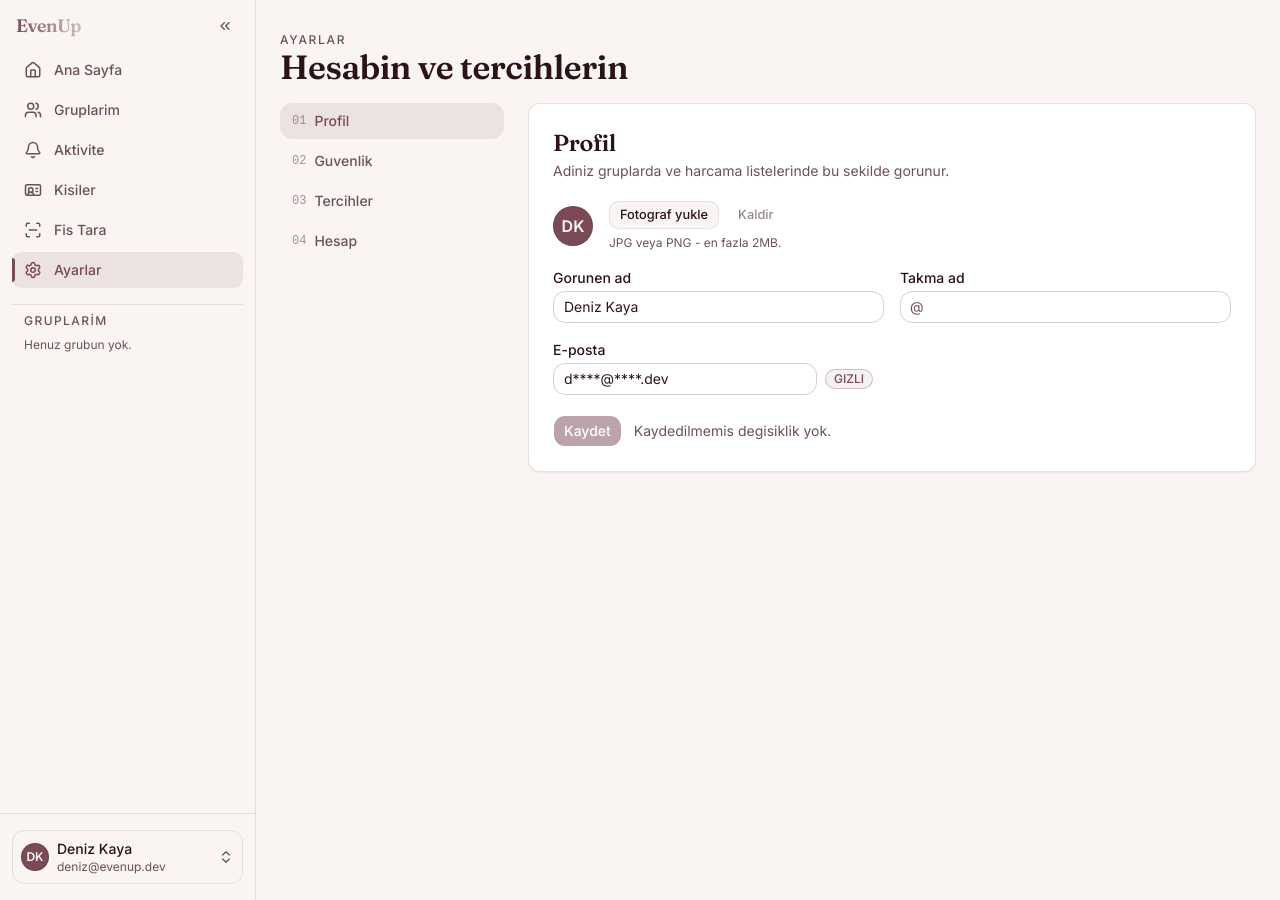
Ayarlar > profil › yeni isimle kaydedince PUT gonderir ve basari bildirimi gosterir
The image size is (1280, 900).
Replace the text in the field labelled "Gorunen ad" with "Deniz Yilmaz" at {"x": 718, "y": 307}, box [553,291,884,323]
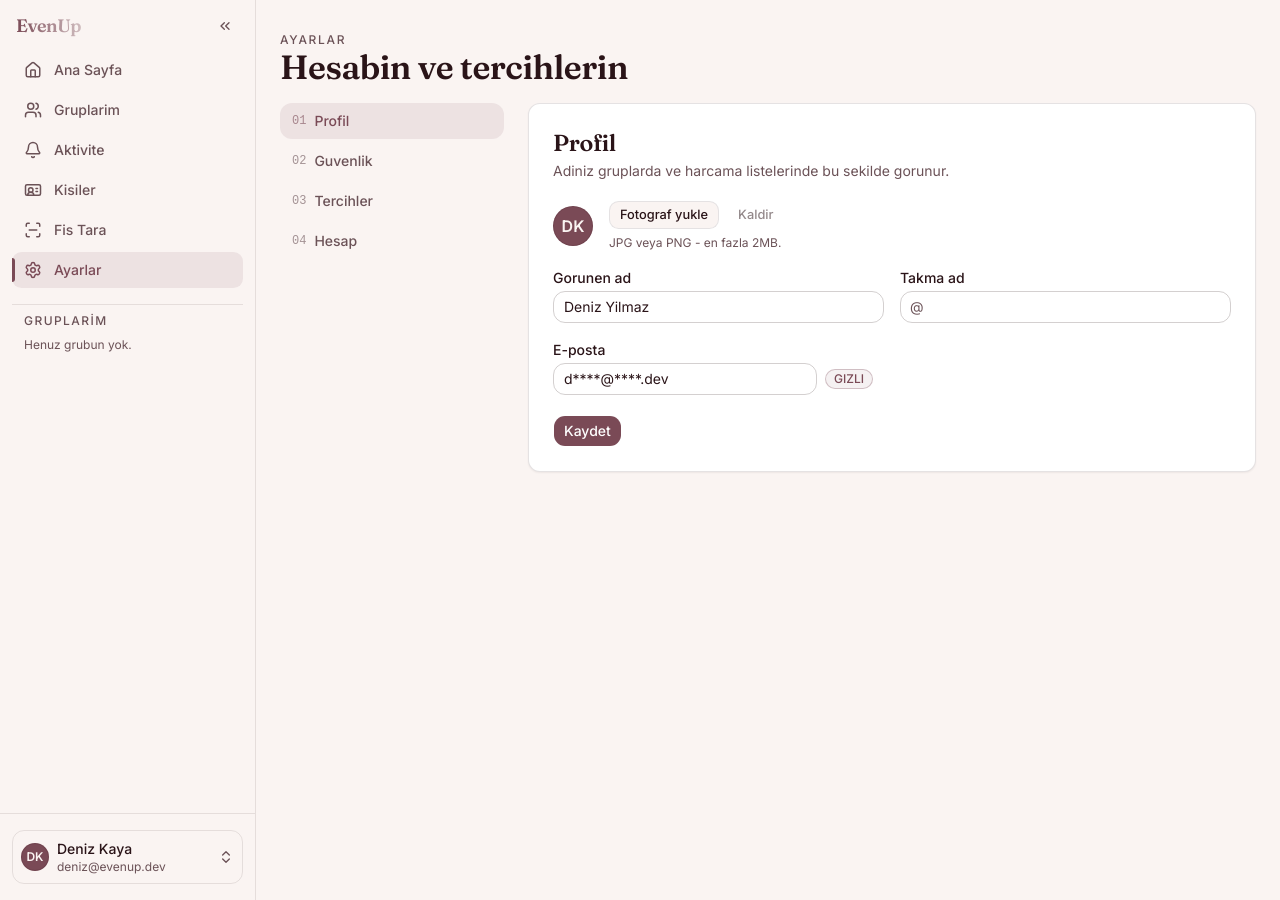
Click the button "Kaydet" at {"x": 587, "y": 431}, box [553,415,622,447]
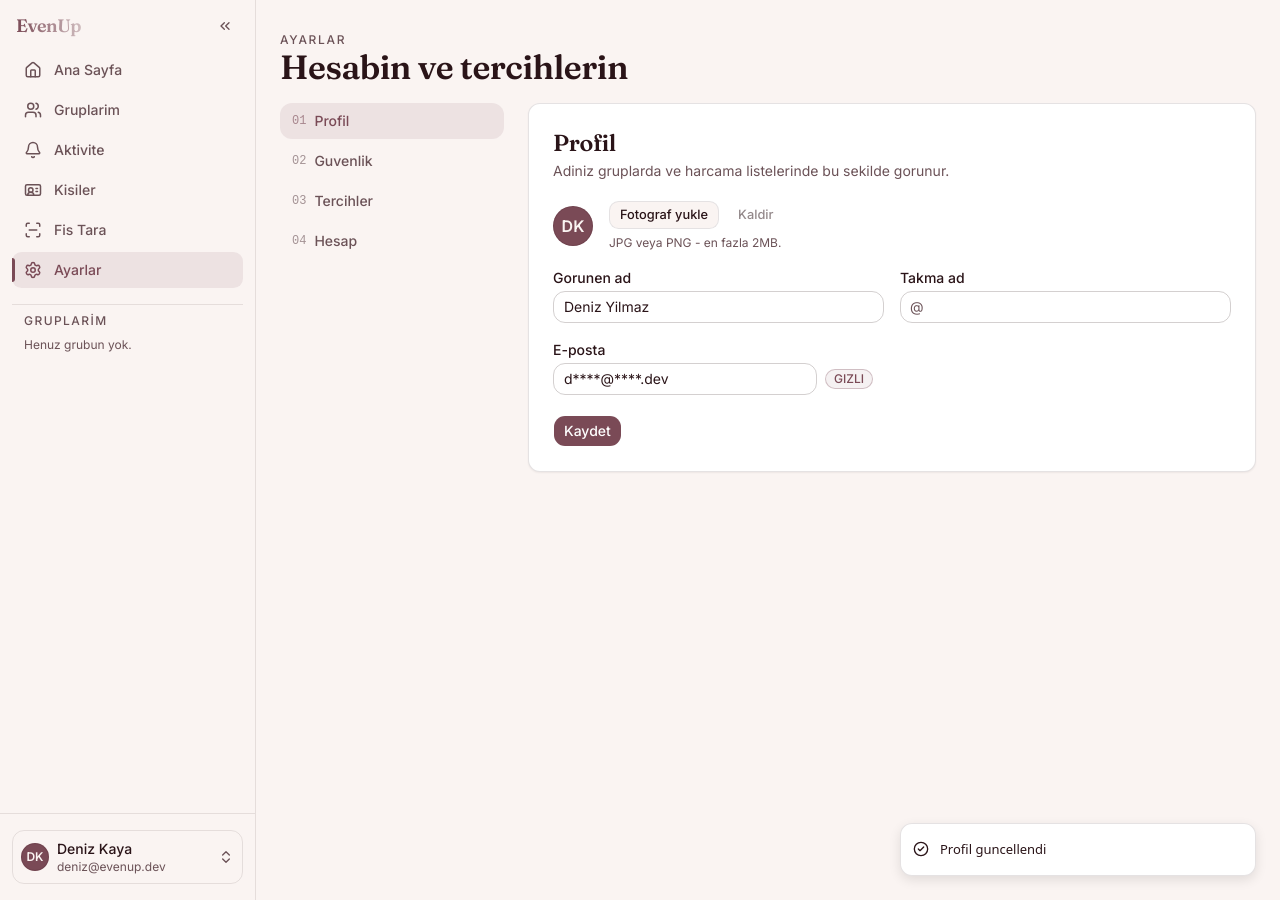
Expected: the text "Profil guncellendi" is shown, [940,840,1046,859]
